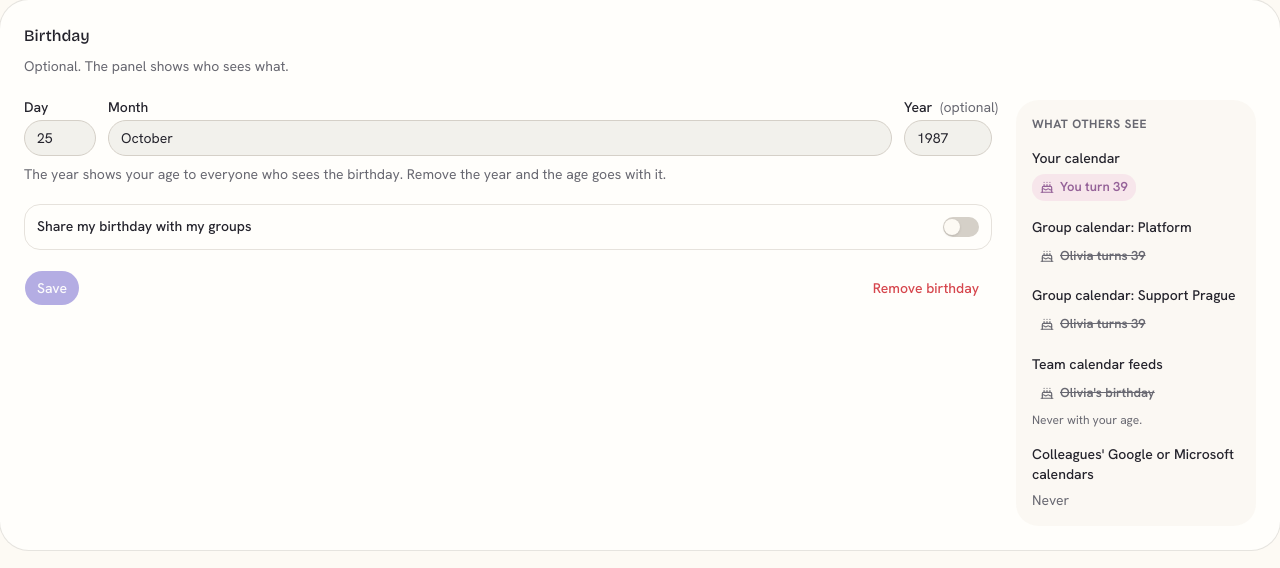
it: BirthdayCard › refuses a year outside 1900 to this year
expect the text "You turn 39" is shown: met, box top-left (1032, 174), bottom-right (1136, 201)
Replace the text in the field labelled "Year (optional)" with "2030" at point(948, 138), box top-left (904, 120), bottom-right (992, 156)
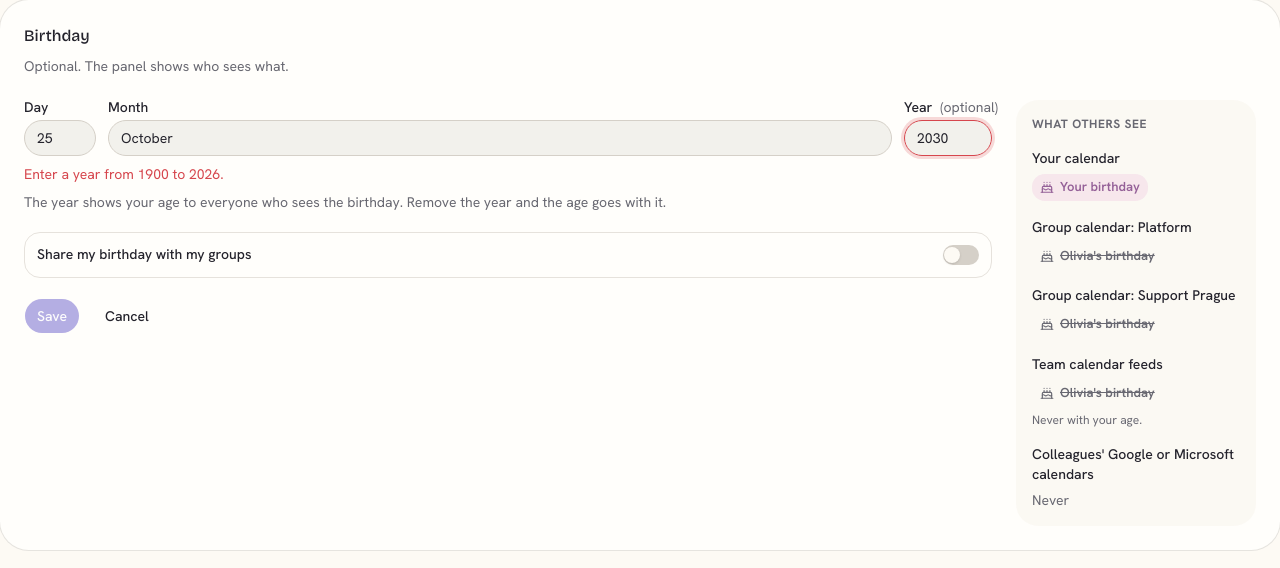
expect the text "Enter a year from 1900 to 2026." is shown: met, box top-left (24, 165), bottom-right (224, 183)
expect the button "Save" is disabled: met, box top-left (24, 298), bottom-right (80, 334)
